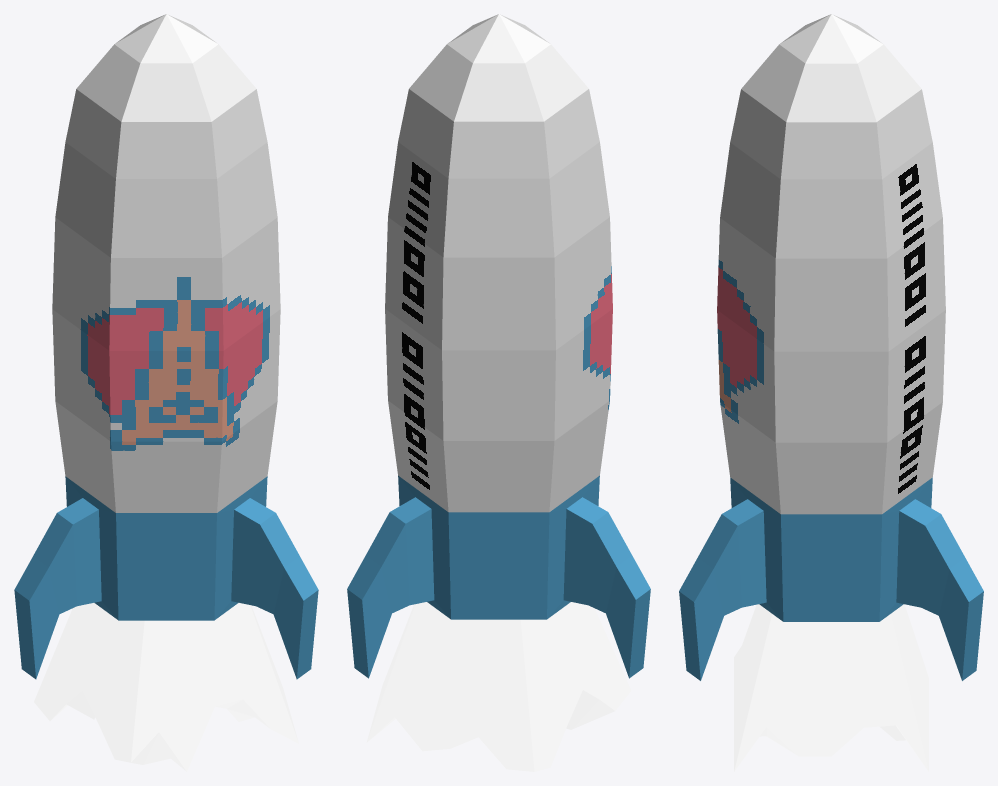
File: missile.glb
3 renders of one model, left to right at view 1: azimuth 30°, elevation 25°; view 2: azimuth 150°, elevation 25°; view 3: azimuth 270°, elevation 25°, orthographic.
Visible parts, largest first — view 1: Cylinder, Plane; view 2: Cylinder, Plane; view 3: Cylinder, Plane.
Part boxes in pixels (x1,y1,x2,y2): Cylinder: (14, 14, 318, 679); Plane: (34, 603, 298, 771); Cylinder: (347, 14, 650, 678); Plane: (366, 602, 631, 771); Cylinder: (679, 14, 983, 680); Plane: (734, 604, 928, 771).
Size of the model in its own units: 2.96 by 8.78 by 3.38.
Materials: 2 (1 with a texture image).
